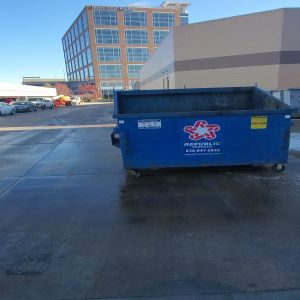Dumpster: (111, 88, 296, 179)
